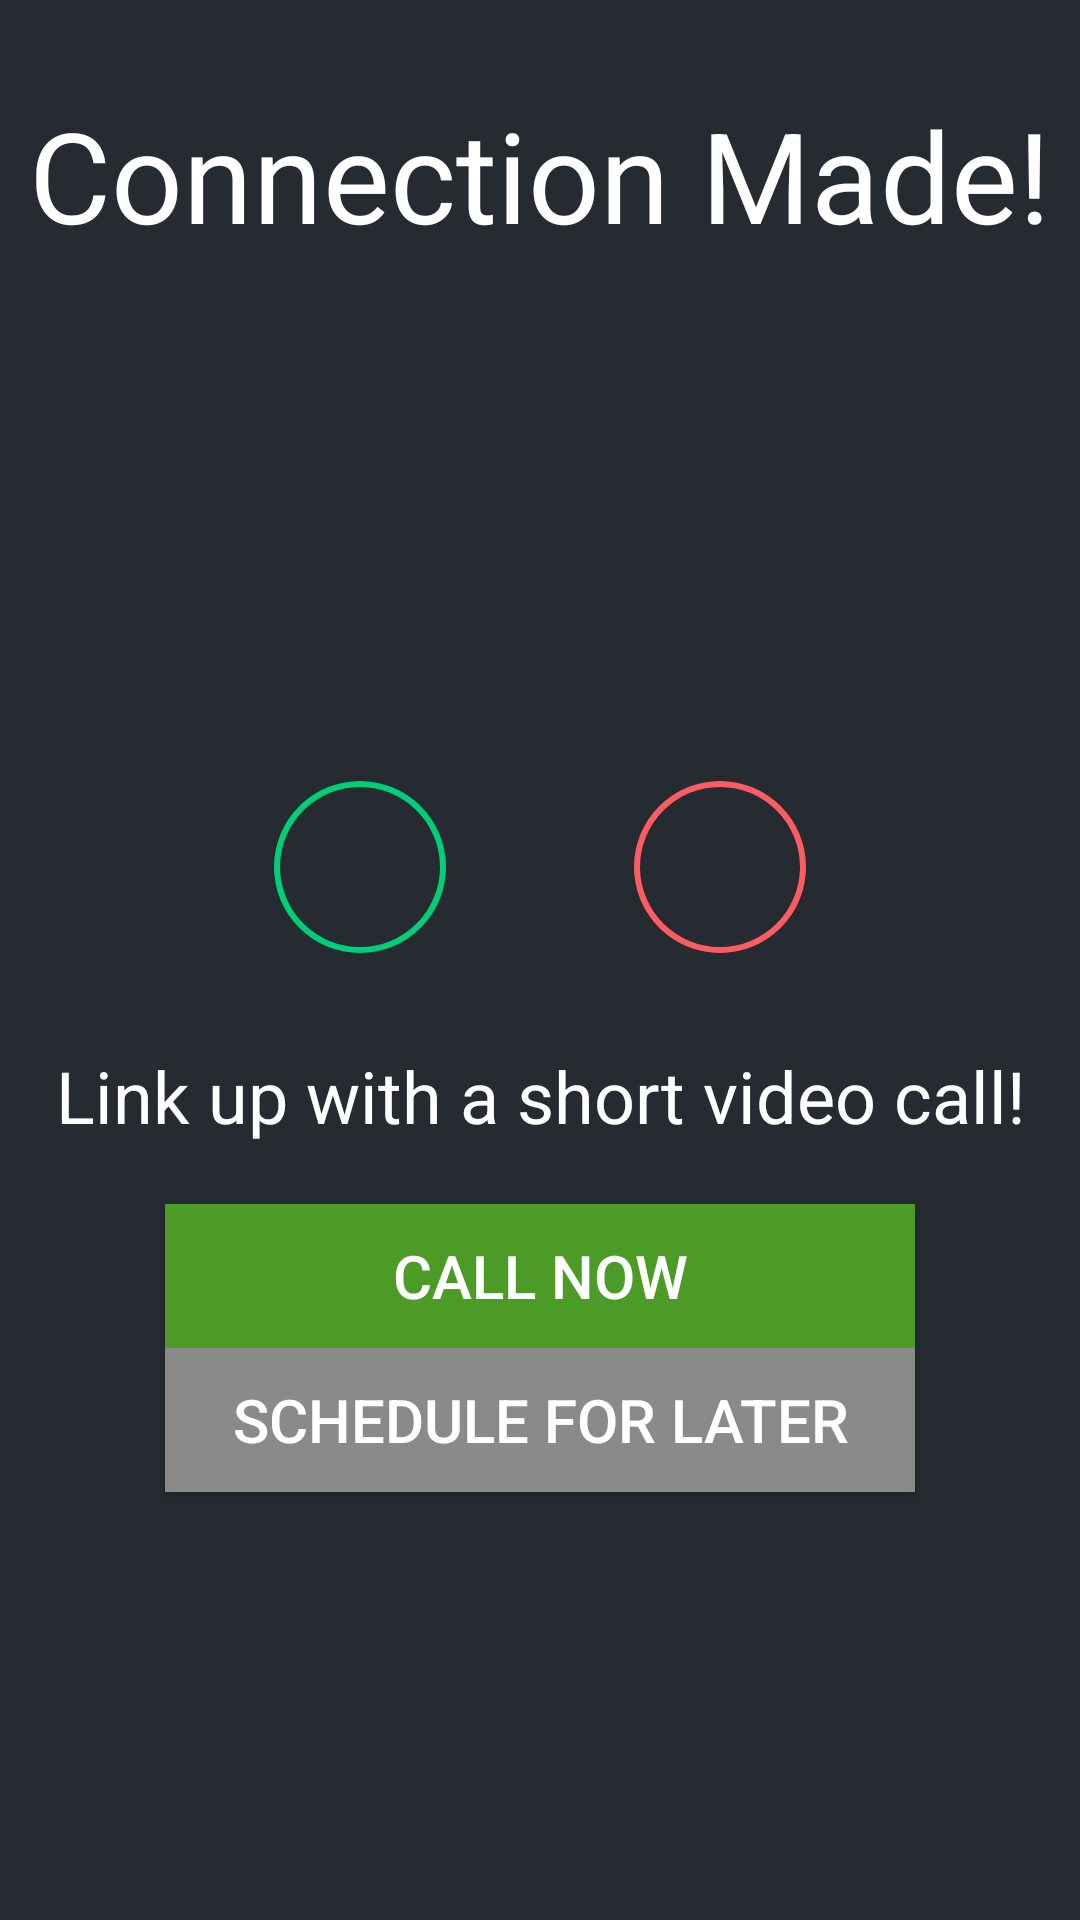

Icon click points for this 1080w x 1920h phone screenshot, format point (x, y):
ring: point (360, 867), point (720, 867)
